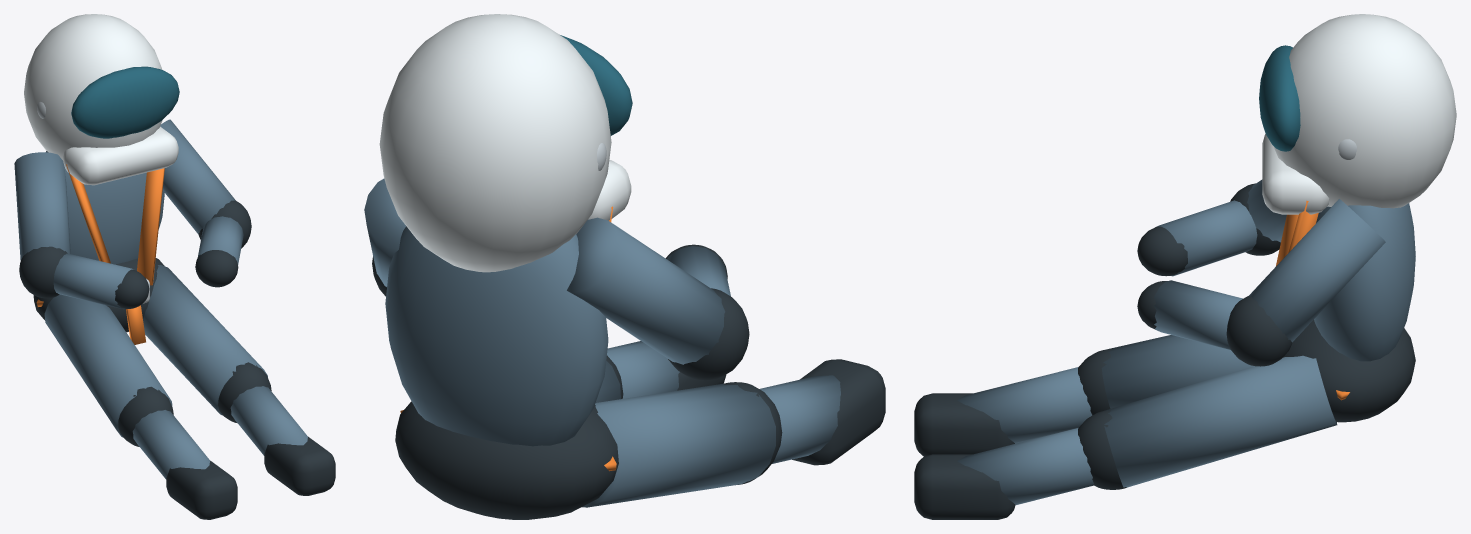
Rendered from race-driver.glb.
3 renders of one model, left to right at view 1: azimuth 30°, elevation 25°; view 2: azimuth 150°, elevation 25°; view 3: azimuth 270°, elevation 25°, orthographic. The views are drawn at different scales.
Visible parts, largest first — view 1: Chin guard, Thigh.001, Thigh, Visor, Race jacket, arm_r, arm_l, boot_l, boot_r, Shin, Shin.001, forearm_r (+11 smaller); view 2: Chin guard, Race jacket, Thigh.001, Pelvis, arm_r, Shin.001, boot_r, Shin, elbow_r, arm_l, Visor, forearm_r (+2 smaller); view 3: Chin guard, Thigh, Race jacket, arm_l, Thigh.001, Pelvis, Shin, Shin.001, boot_l, boot_r, forearm_r, forearm_l (+8 smaller).
Part boxes in pixels (x1=…): Chin guard: x1=24, y1=14, x2=178, y2=185; Thigh.001: x1=44, y1=294, x2=172, y2=437; Thigh: x1=143, y1=265, x2=267, y2=415; Visor: x1=71, y1=66, x2=179, y2=138; Race jacket: x1=46, y1=151, x2=164, y2=264; arm_r: x1=14, y1=152, x2=70, y2=260; arm_l: x1=160, y1=119, x2=235, y2=234; boot_l: x1=264, y1=436, x2=335, y2=495; boot_r: x1=166, y1=461, x2=237, y2=519; Shin: x1=230, y1=386, x2=307, y2=455; Shin.001: x1=132, y1=410, x2=210, y2=479; forearm_r: x1=53, y1=253, x2=133, y2=309; Chin guard: x1=379, y1=14, x2=631, y2=272; Race jacket: x1=385, y1=226, x2=608, y2=446; Thigh.001: x1=582, y1=383, x2=775, y2=507; Pelvis: x1=395, y1=401, x2=618, y2=519; arm_r: x1=567, y1=217, x2=725, y2=364; Shin.001: x1=759, y1=375, x2=840, y2=463; boot_r: x1=792, y1=359, x2=885, y2=465; Shin: x1=607, y1=341, x2=679, y2=398; elbow_r: x1=668, y1=288, x2=749, y2=380; arm_l: x1=364, y1=178, x2=405, y2=286; Visor: x1=560, y1=35, x2=632, y2=135; forearm_r: x1=667, y1=246, x2=730, y2=296; Chin guard: x1=1262, y1=14, x2=1456, y2=214; Thigh: x1=1104, y1=355, x2=1337, y2=487; Race jacket: x1=1314, y1=203, x2=1415, y2=361; arm_l: x1=1248, y1=199, x2=1385, y2=342; Thigh.001: x1=1102, y1=335, x2=1253, y2=408; Pelvis: x1=1283, y1=319, x2=1415, y2=422; Shin: x1=957, y1=428, x2=1093, y2=504; Shin.001: x1=957, y1=367, x2=1092, y2=443; boot_l: x1=914, y1=454, x2=1015, y2=519; boot_r: x1=914, y1=393, x2=1014, y2=456; forearm_r: x1=1155, y1=200, x2=1257, y2=276; forearm_l: x1=1154, y1=280, x2=1242, y2=349.
Bounding box in the file's own units: 0.81 × 1.25 × 1.32.
